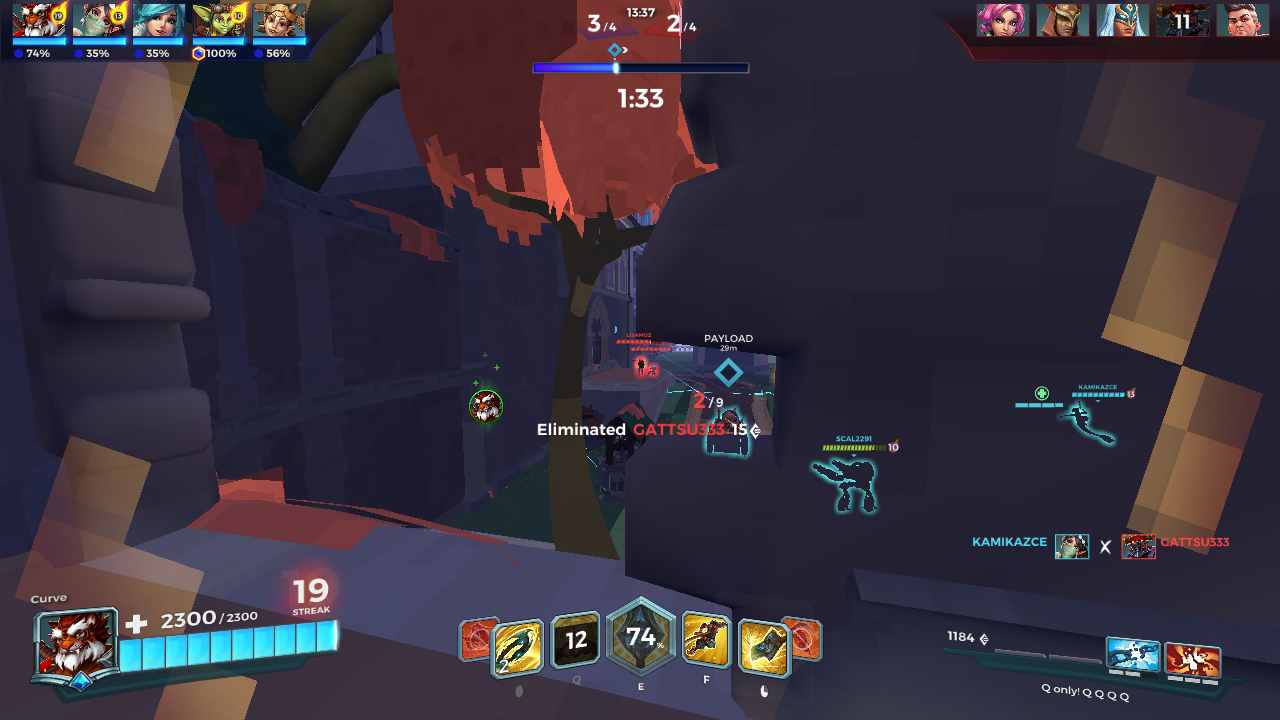model: (645, 364, 660, 382), (635, 354, 644, 373)
